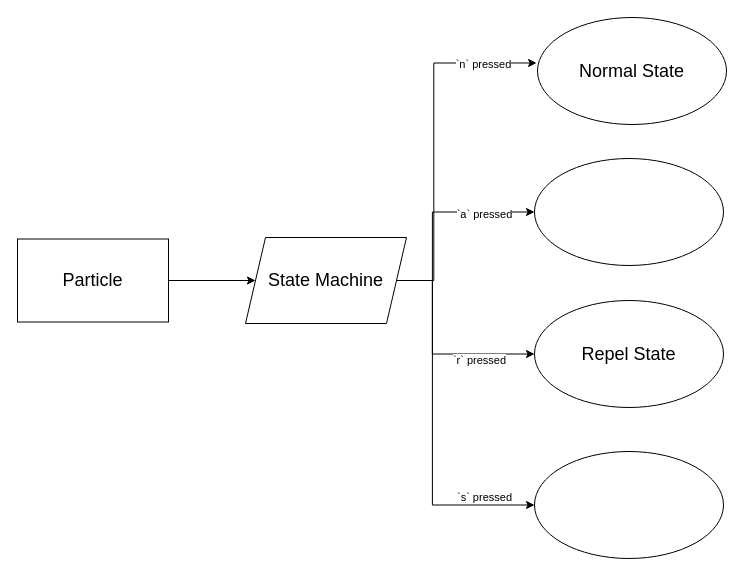
The diagram is 744 pixels wide and 576 high, and some of its shapes have lost their labels. Each missing label, with the centre of its shape:
Attract State: [629,212]
Stop State: [629,504]
